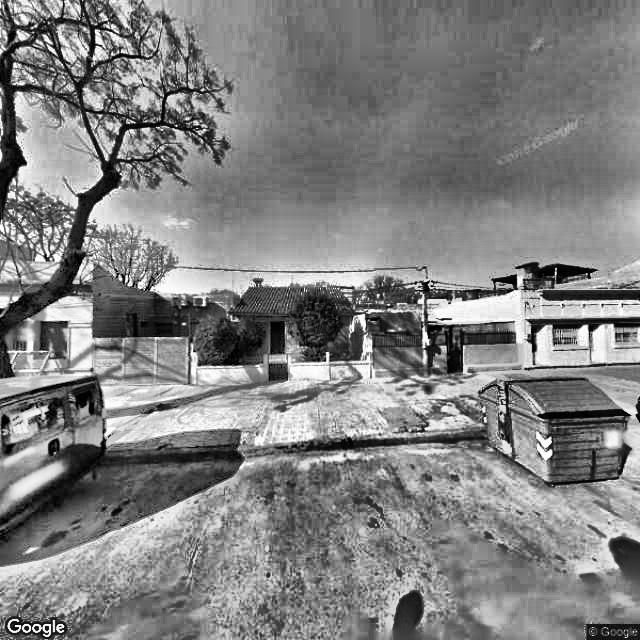Dustbin: (469, 366, 637, 500)
